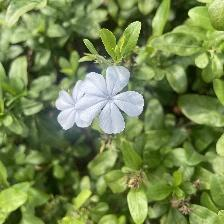chitrak: (81, 68, 143, 128), (54, 80, 94, 130)
